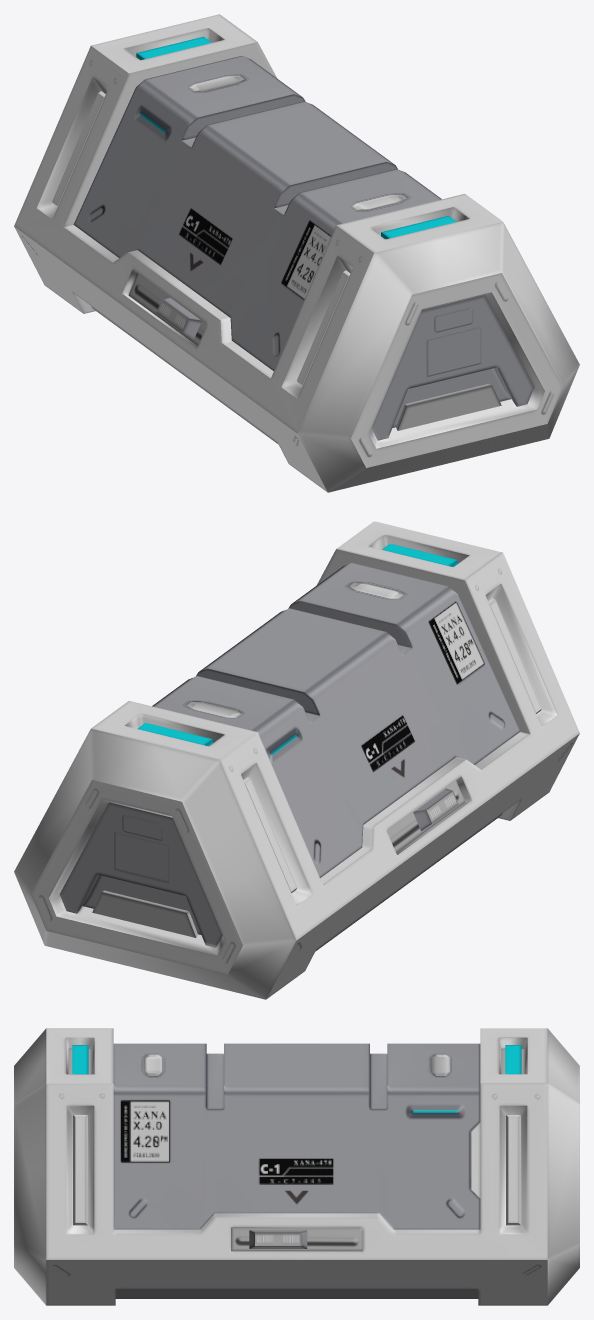
The model's file is FUT0110010.fbx.
The picture shows the model from 3 angles, top to bottom: view 1: azimuth 30°, elevation 25°; view 2: azimuth 150°, elevation 25°; view 3: azimuth 270°, elevation 25°; orthographic projection. The views are drawn at different scales.
Parts seen in each view (by area): view 1: smFUT0110010; view 2: smFUT0110010; view 3: smFUT0110010.
Part boxes in pixels (x1,y1,x2,y2): smFUT0110010: (14, 14, 579, 492); smFUT0110010: (14, 521, 579, 999); smFUT0110010: (14, 1028, 579, 1305).
Bounding box in the file's own units: 157 × 121 × 308.
Materials: 1 (1 with a texture image).
